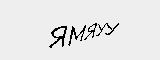М: (68, 22, 86, 48)
У: (103, 20, 119, 37), (95, 17, 106, 39)
Я: (47, 24, 68, 49), (84, 19, 97, 42)
